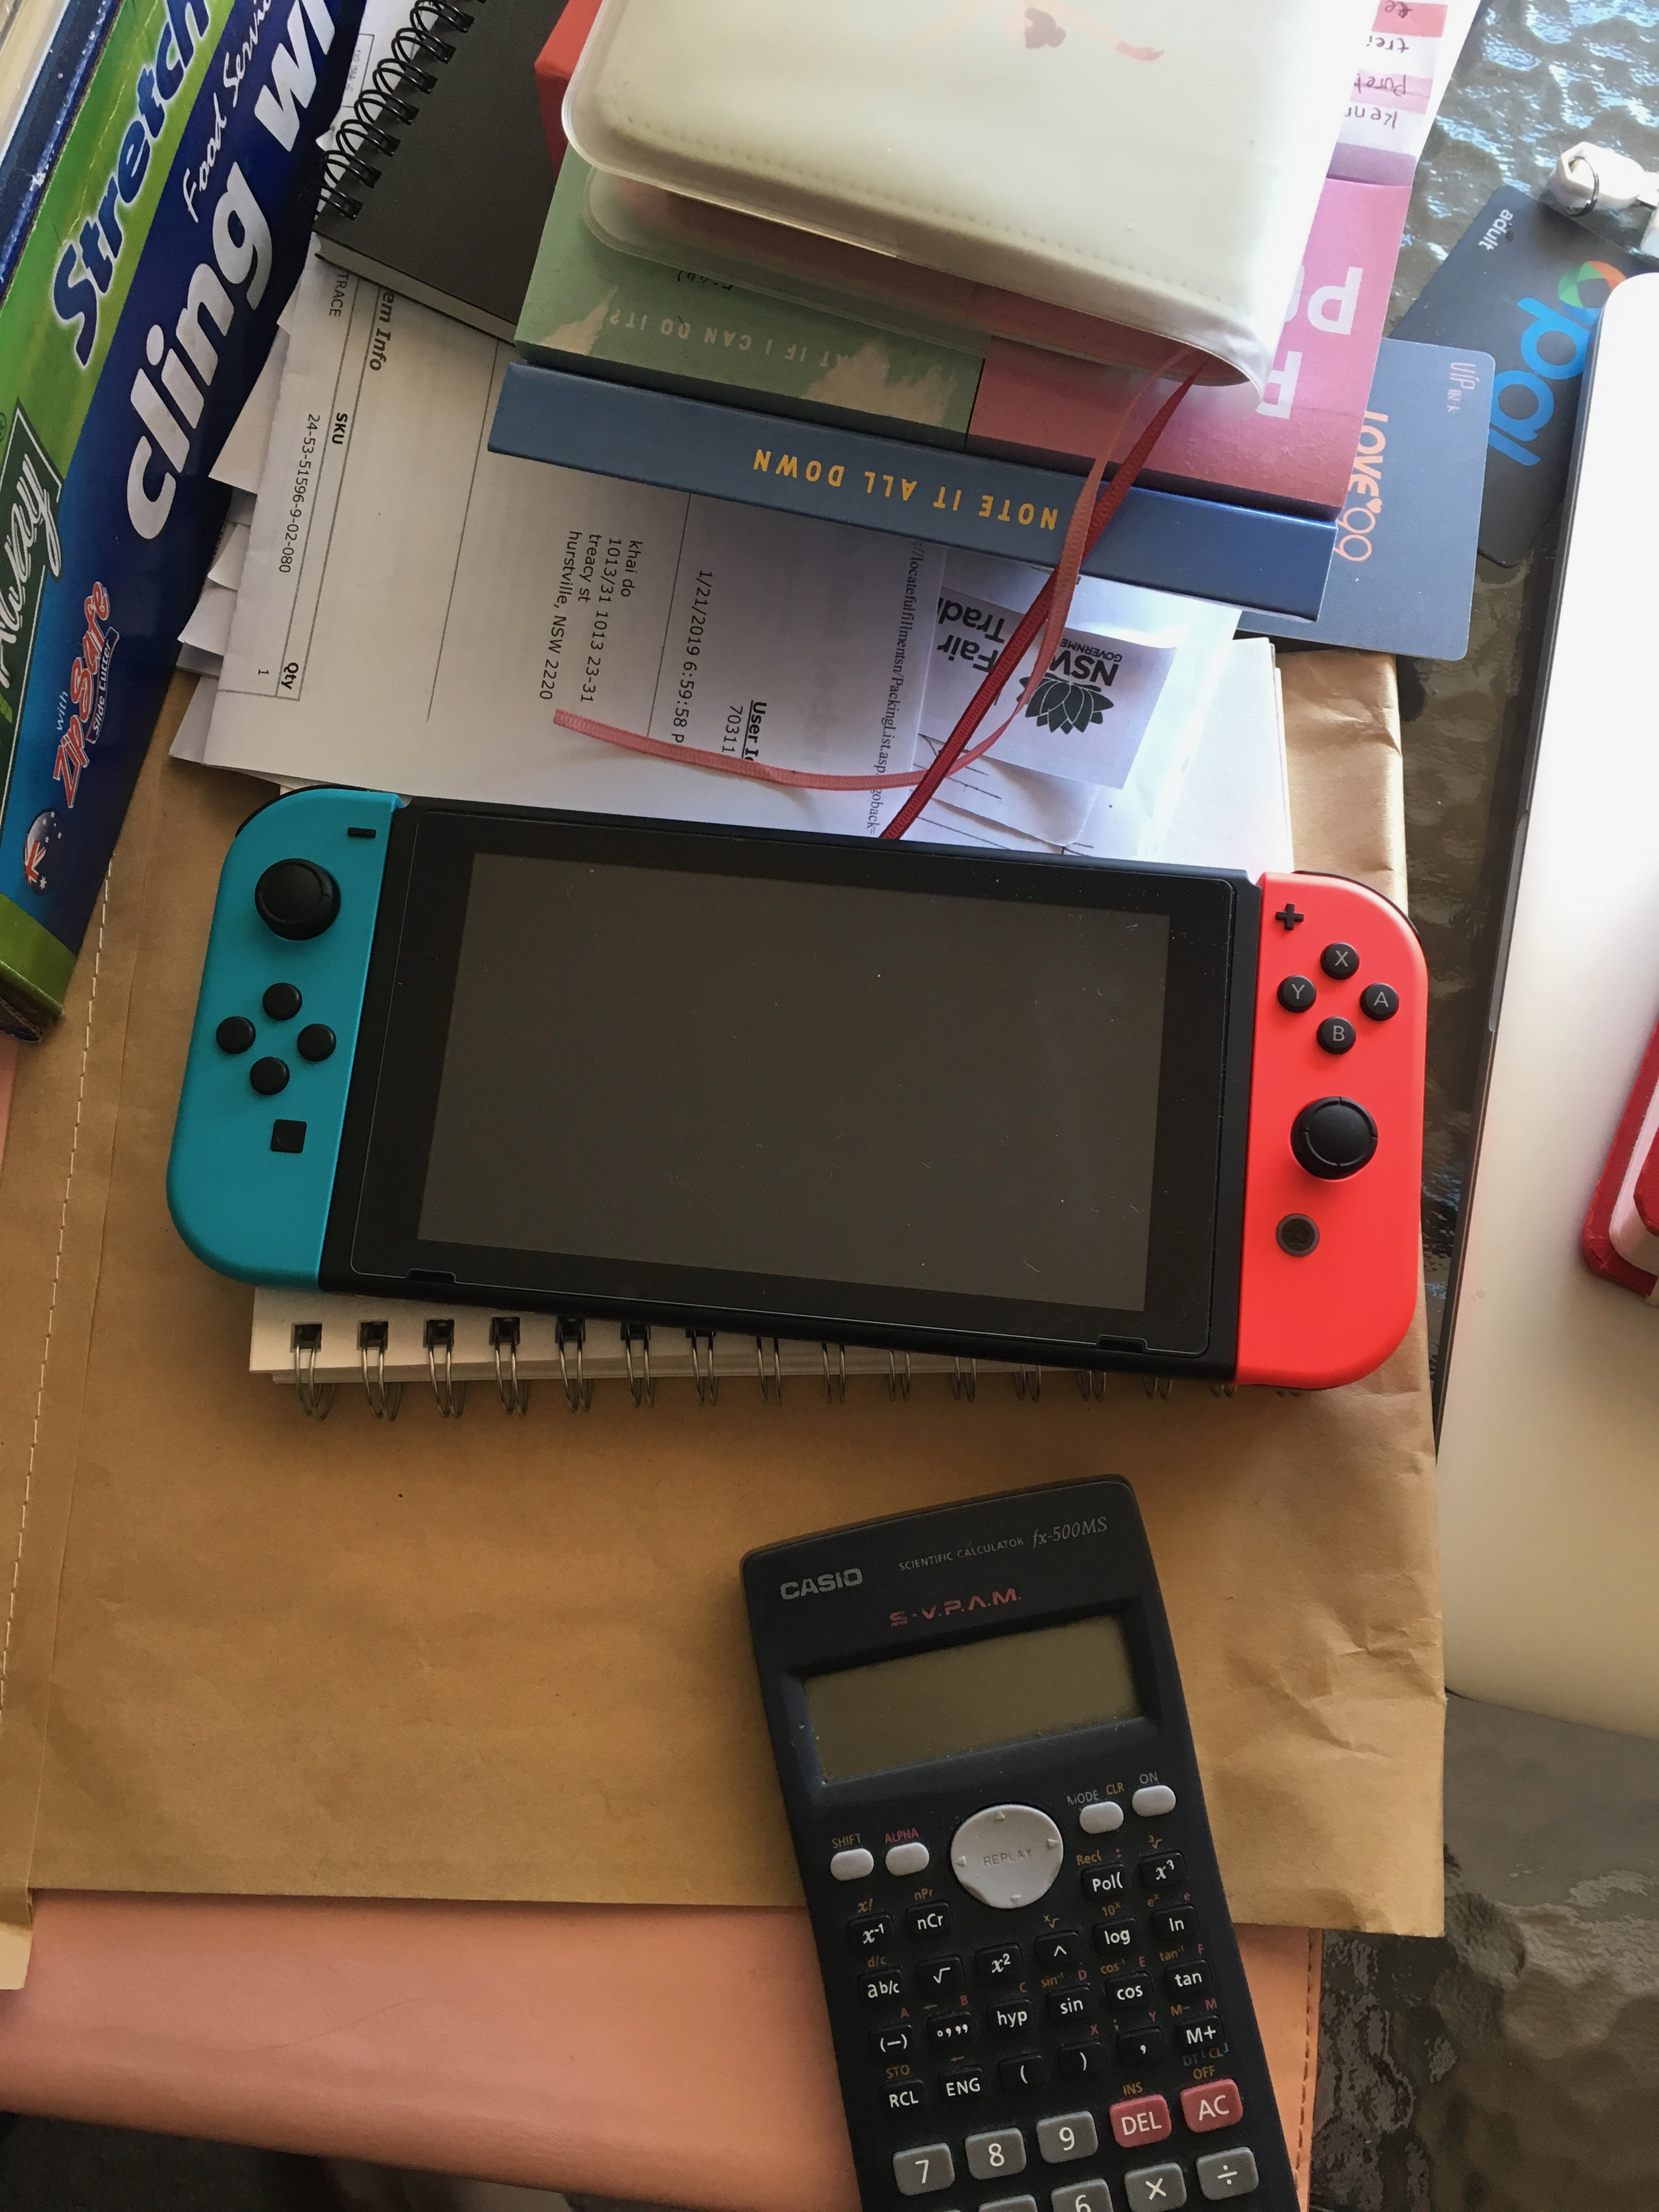NintendoSwitch: (153, 779, 1452, 1411)
